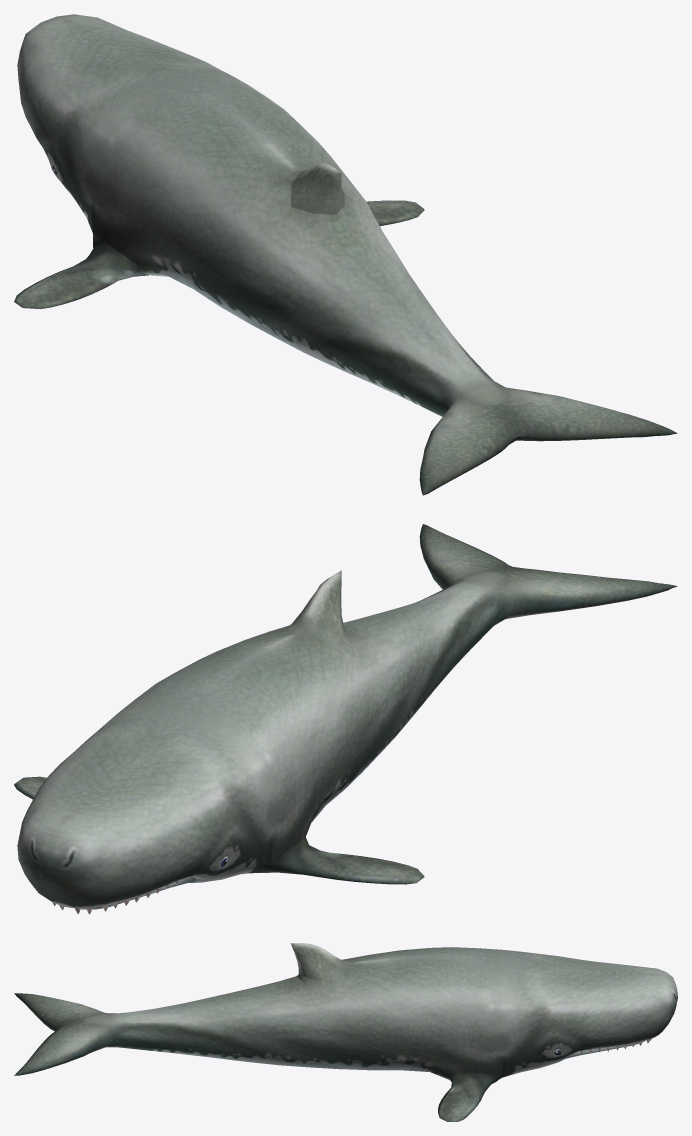
File: leviathan_battle.obj
3 views of the same model, one above another, from view 1: azimuth 30°, elevation 25°; view 2: azimuth 150°, elevation 25°; view 3: azimuth 270°, elevation 25° (orthographic). The views are drawn at different scales.
Parts seen in each view (by area): view 1: leviathan_battle; view 2: leviathan_battle; view 3: leviathan_battle.
Part boxes in pixels (x1,y1,x2,y2): leviathan_battle: (14,14,677,495); leviathan_battle: (14,524,677,914); leviathan_battle: (14,943,677,1121).
Bounding box in the file's own units: 176 × 75.4 × 380.
1 material, 1 textured.
